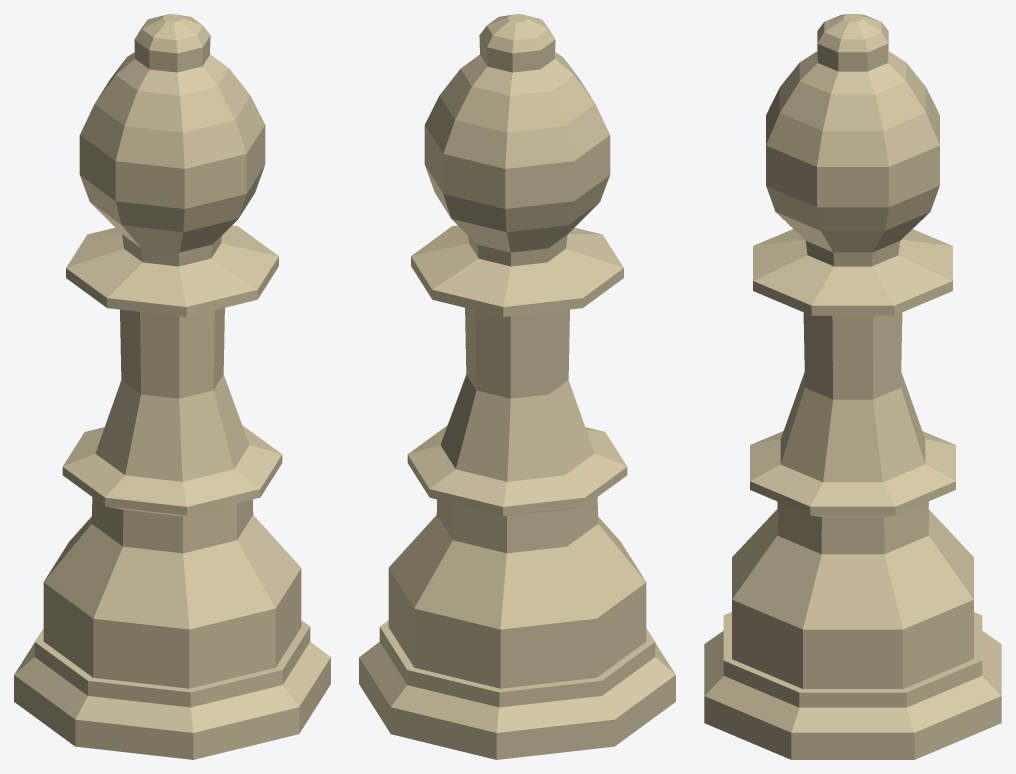
Rendered from elephant.fbx.
The picture shows the model from 3 angles, left to right: view 1: azimuth 30°, elevation 25°; view 2: azimuth 150°, elevation 25°; view 3: azimuth 270°, elevation 25°; orthographic projection.
Parts seen in each view (by area): view 1: Cylinder_3; view 2: Cylinder_3; view 3: Cylinder_3.
Boxes of the visible parts, x1=… form: Cylinder_3: x1=14, y1=14, x2=330, y2=759; Cylinder_3: x1=359, y1=14, x2=675, y2=759; Cylinder_3: x1=704, y1=14, x2=1001, y2=759.
Size of the model in its own units: 126 by 318 by 126.
